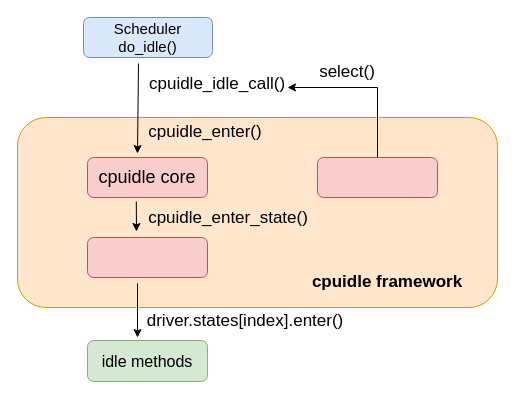
The diagram is 515 pixels wide and 399 high, and some of its shapes have lost their labels. The shapes that lost their labels are listed below. From the top down, each one's box as (x1, y1, x2, y2) in pixels, then its label:
(316, 156, 438, 198): cpuidle governor
(86, 236, 208, 278): cpuidle driver
